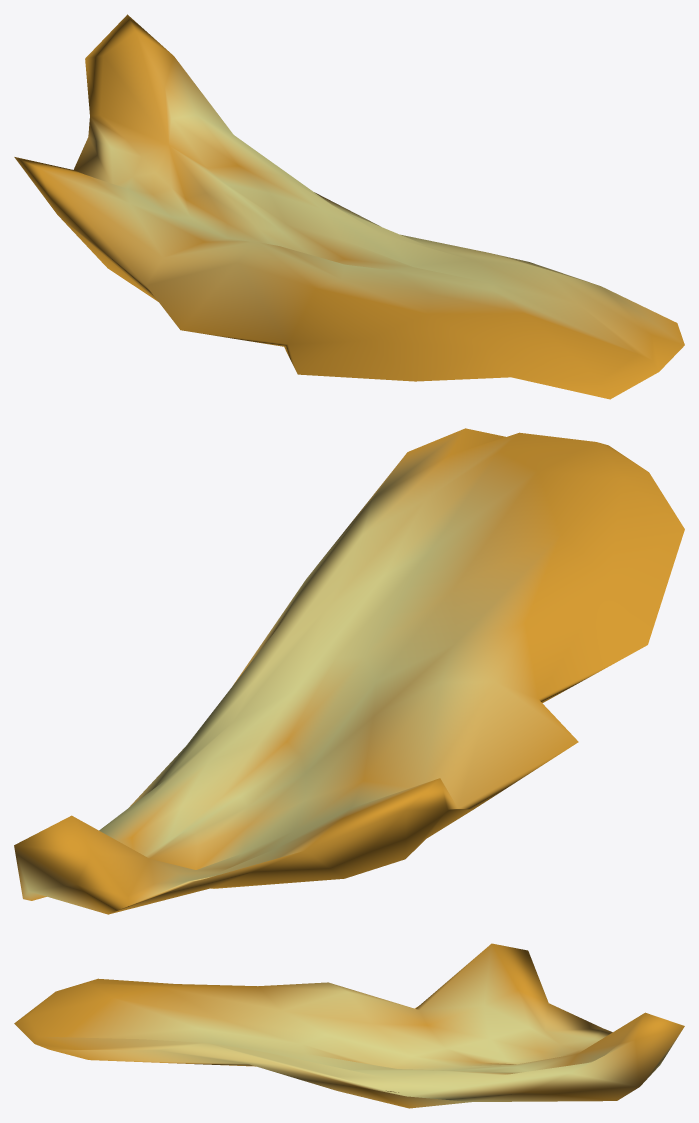
The model's file is LavaSplash_frame017.glb.
The picture shows the model from 3 angles, top to bottom: view 1: azimuth 30°, elevation 25°; view 2: azimuth 150°, elevation 25°; view 3: azimuth 270°, elevation 25°; orthographic projection. The views are drawn at different scales.
Visible parts, largest first — view 1: LavaSplash_frame017; view 2: LavaSplash_frame017; view 3: LavaSplash_frame017.
Boxes of the visible parts, bbox=[...] form: LavaSplash_frame017: bbox=[14, 14, 684, 399]; LavaSplash_frame017: bbox=[14, 428, 684, 914]; LavaSplash_frame017: bbox=[14, 943, 684, 1108].
Size of the model in its own units: 1.76 by 0.6724 by 4.64.
